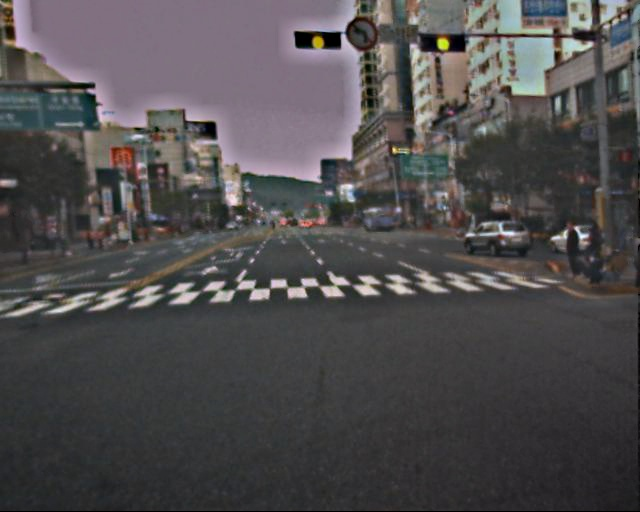person: (576, 221, 606, 280), (558, 221, 583, 278)
